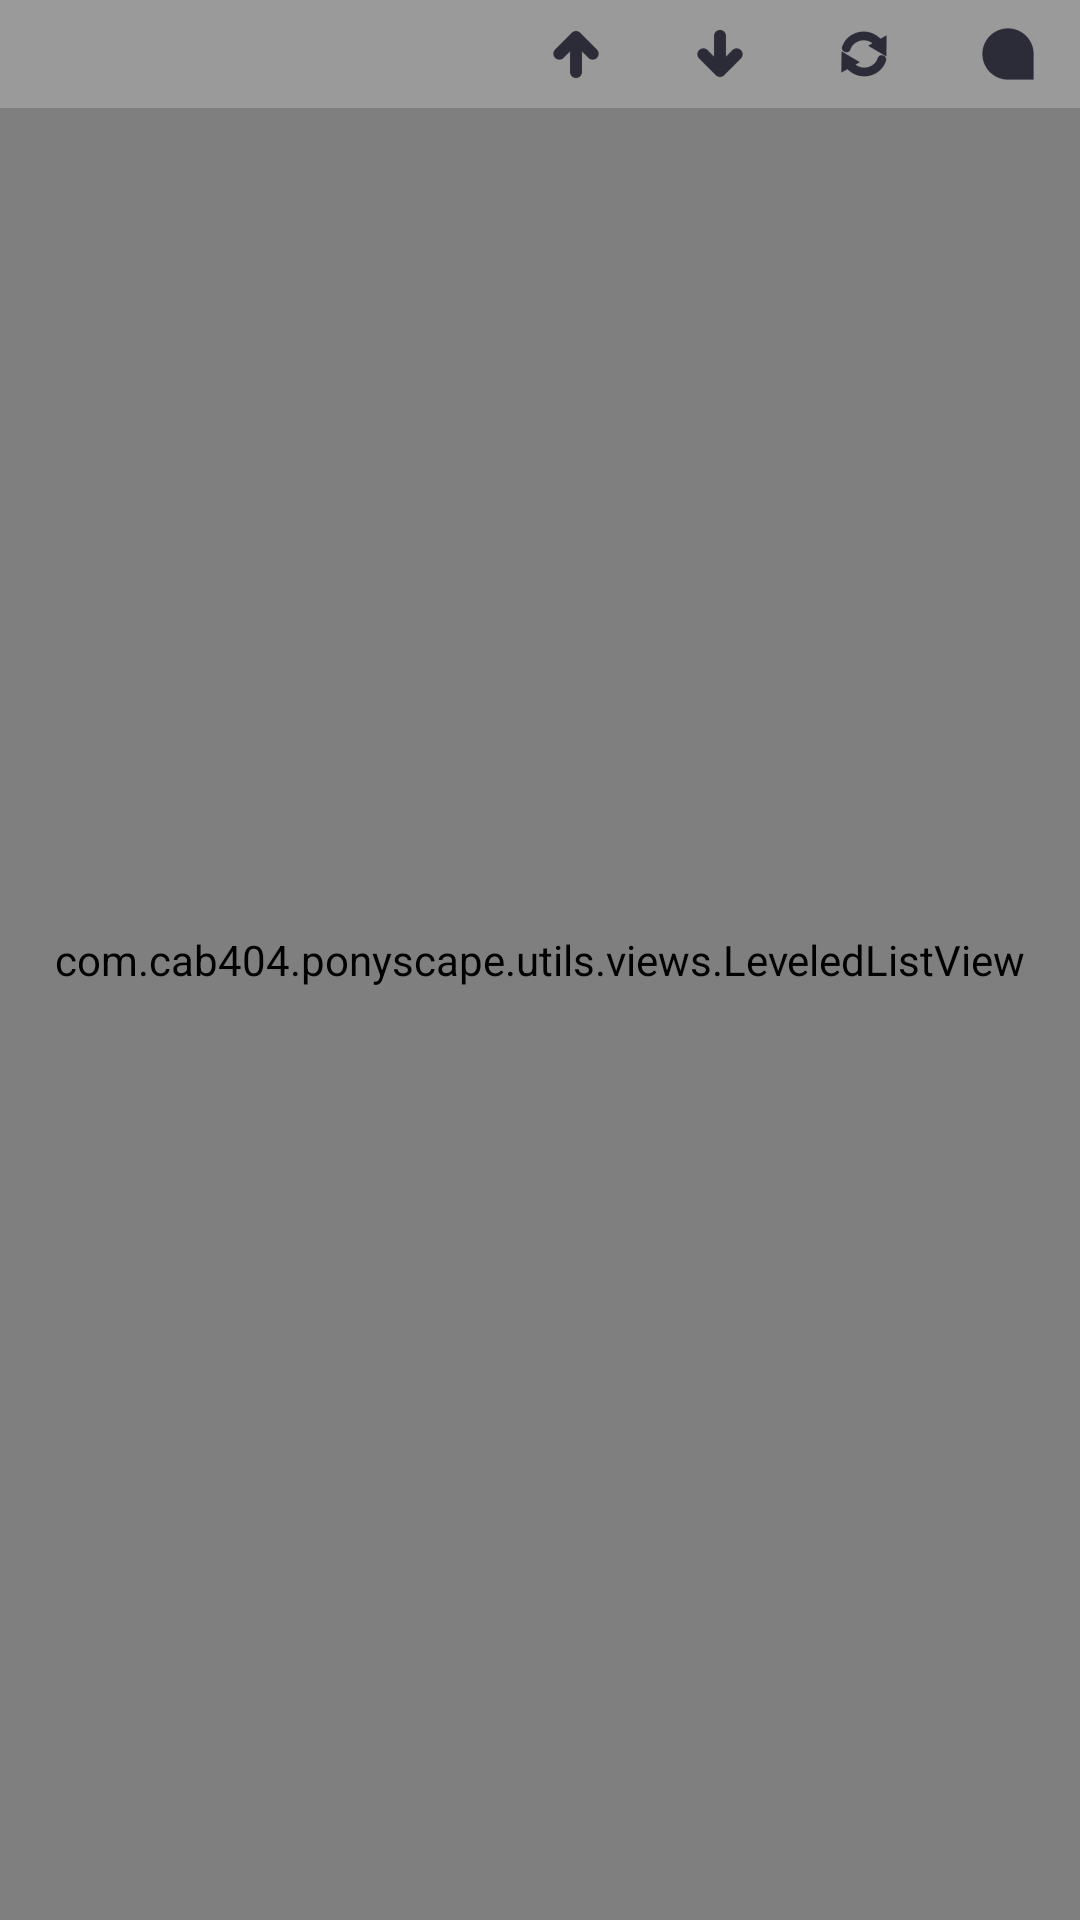

Icon click points for this 1080*1920 phone screenshot, format point (x, y):
down: point (720, 53)
update: point (864, 54)
